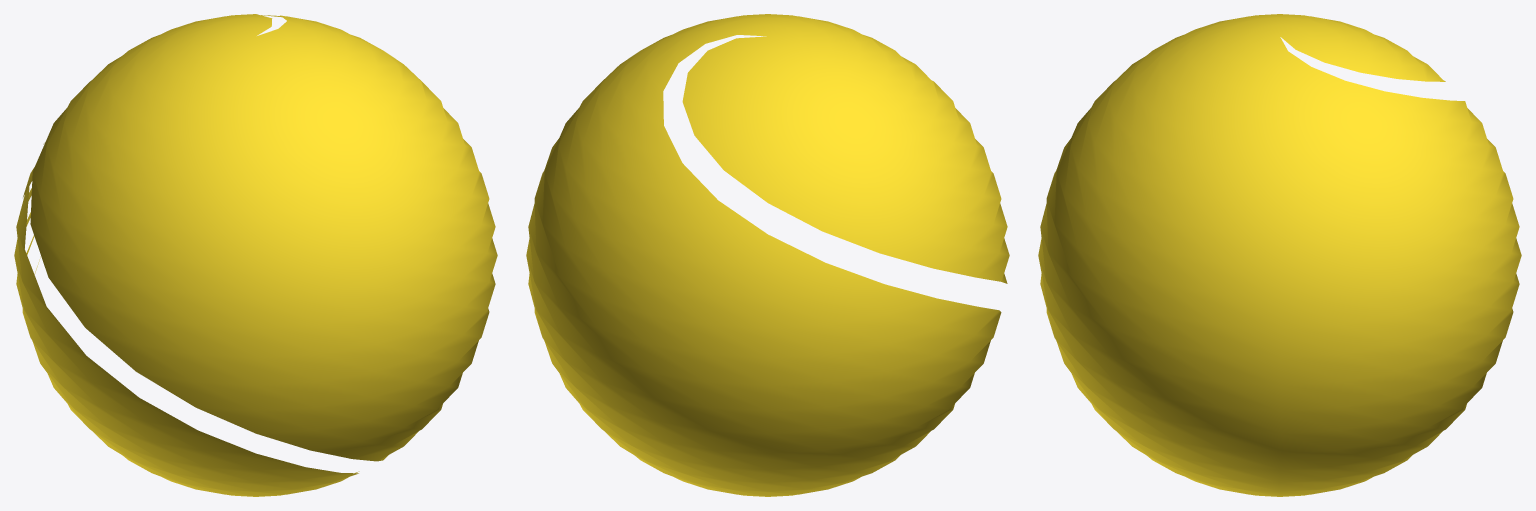
The picture shows the model from 3 angles, left to right: view 1: azimuth 30°, elevation 25°; view 2: azimuth 150°, elevation 25°; view 3: azimuth 270°, elevation 25°; orthographic projection.
Size of the model in its own units: 1.8 by 1.79 by 1.8.
